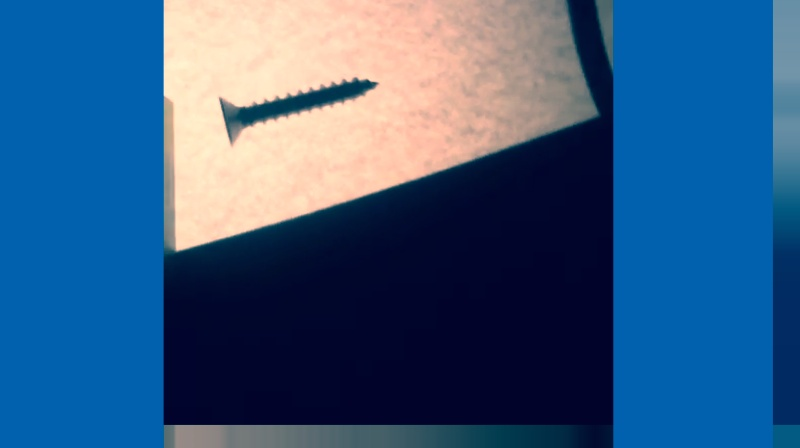S001: (212, 73, 380, 149)
